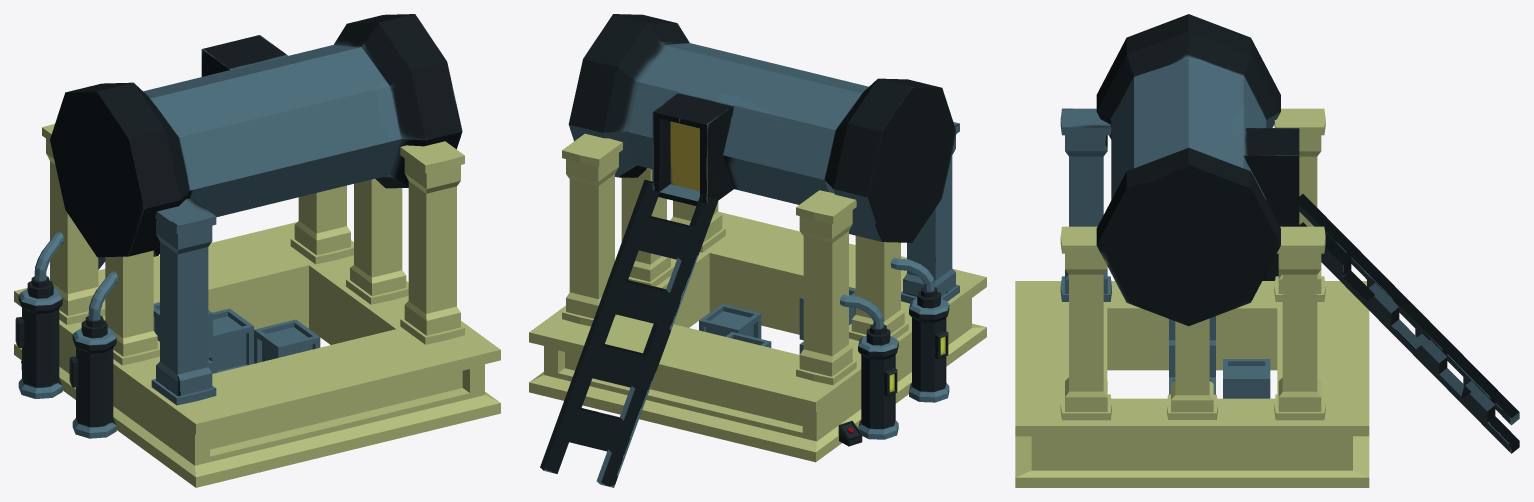
Rendered from stock.fbx.
The picture shows the model from 3 angles, left to right: view 1: azimuth 30°, elevation 25°; view 2: azimuth 150°, elevation 25°; view 3: azimuth 270°, elevation 25°; orthographic projection. The views are drawn at different scales.
Visible parts, largest first — view 1: SILO, SILO.001, battery_ferme.006, battery_ferme.007, CAISSE3; view 2: SILO.001, SILO, battery_ferme.006, battery_ferme.007, CAISSE3; view 3: SILO, SILO.001, CAISSE3.
Boxes of the visible parts, <box> form: SILO: <box>14,124,500,487</box>; SILO.001: <box>50,14,462,405</box>; battery_ferme.006: <box>15,231,63,398</box>; battery_ferme.007: <box>69,271,117,438</box>; CAISSE3: <box>153,302,320,373</box>; SILO.001: <box>540,14,959,487</box>; SILO: <box>529,133,986,462</box>; battery_ferme.006: <box>838,294,898,446</box>; battery_ferme.007: <box>890,257,949,402</box>; CAISSE3: <box>699,288,855,354</box>; SILO: <box>1015,108,1369,487</box>; SILO.001: <box>1060,14,1519,453</box>; CAISSE3: <box>1169,316,1270,398</box>.
Size of the model in its own units: 1110 by 1036 by 1423.
